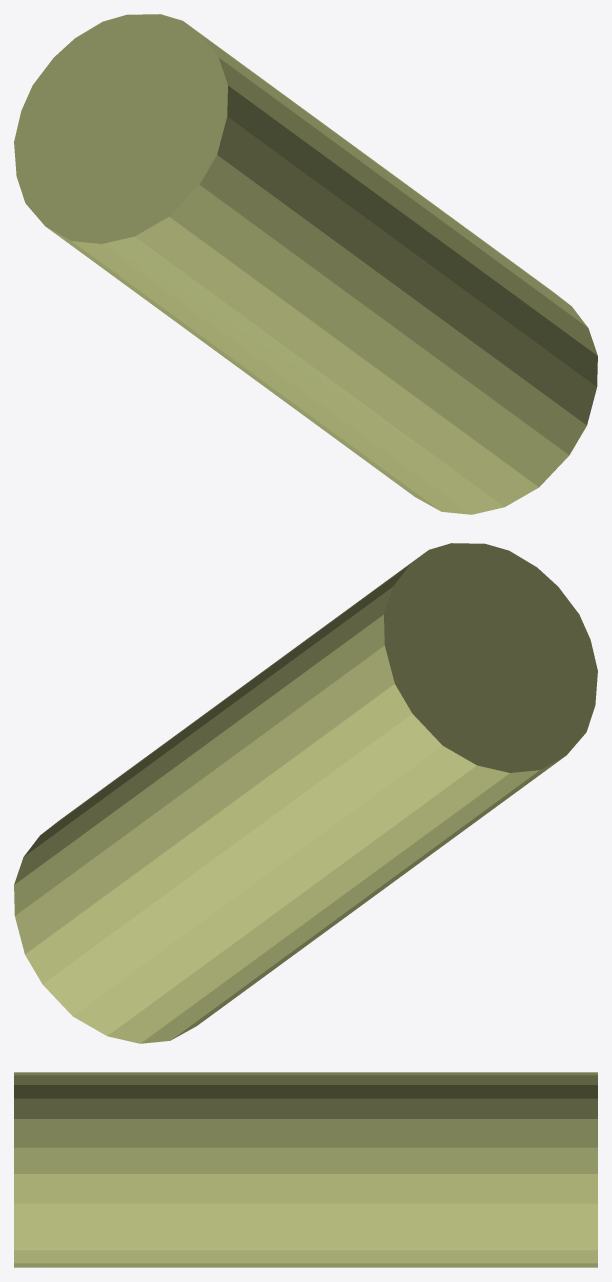
3 renders of one model, top to bottom at view 1: azimuth 30°, elevation 25°; view 2: azimuth 150°, elevation 25°; view 3: azimuth 270°, elevation 25°, orthographic. The views are drawn at different scales.
Parts seen in each view (by area): view 1: 0_1_3_2_1_2_3_2_2_2_2_2; view 2: 0_1_3_2_1_2_3_2_2_2_2_2; view 3: 0_1_3_2_1_2_3_2_2_2_2_2.
Boxes of the visible parts, x1=… form: 0_1_3_2_1_2_3_2_2_2_2_2: x1=14, y1=14, x2=597, y2=514; 0_1_3_2_1_2_3_2_2_2_2_2: x1=14, y1=543, x2=597, y2=1043; 0_1_3_2_1_2_3_2_2_2_2_2: x1=14, y1=1072, x2=597, y2=1267.
Size of the model in its own units: 3.01 by 3 by 9.
